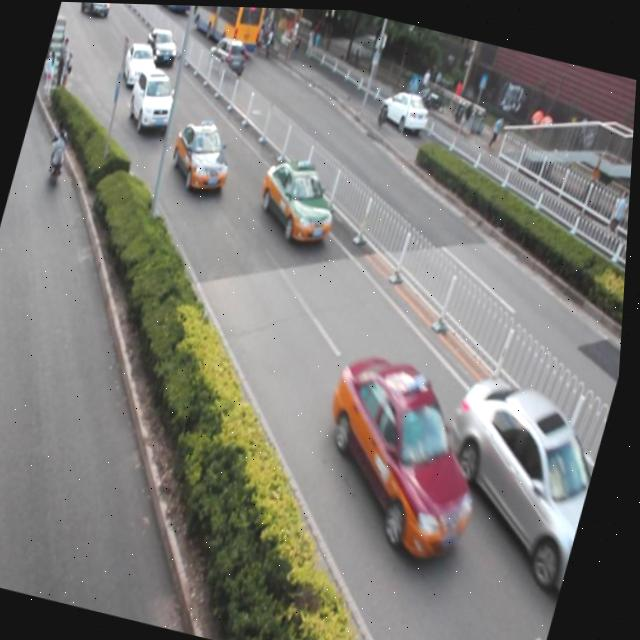car: (301, 346, 510, 568), (422, 366, 616, 586), (252, 149, 346, 247), (166, 115, 240, 196), (124, 65, 185, 138), (375, 84, 435, 137), (203, 31, 252, 83), (118, 40, 162, 93), (141, 24, 183, 70)
van: (186, 4, 269, 57)
